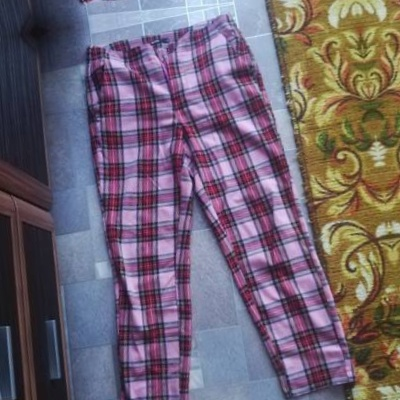Pants: (52, 1, 364, 400), (0, 0, 303, 21)
